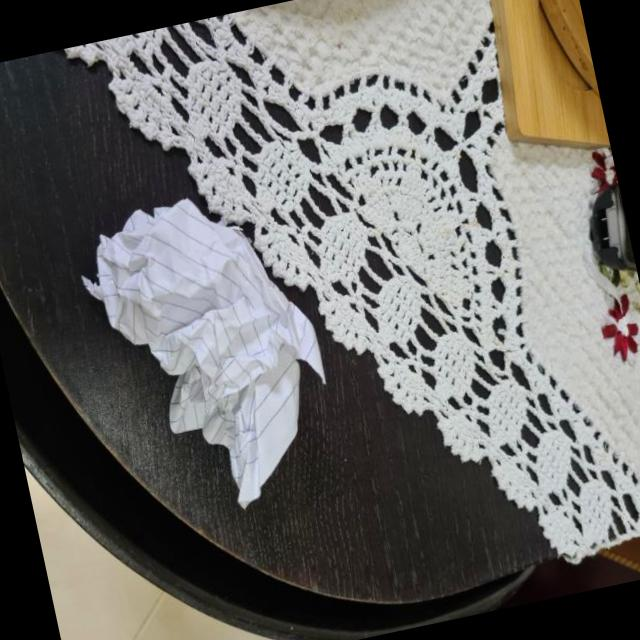cardboard paper: (84, 197, 324, 506)
